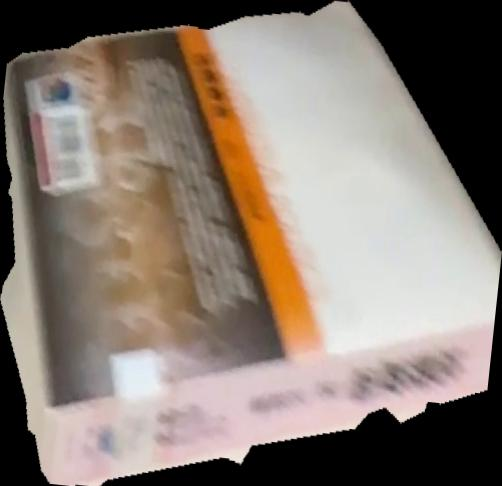flat: (1, 1, 502, 486)
